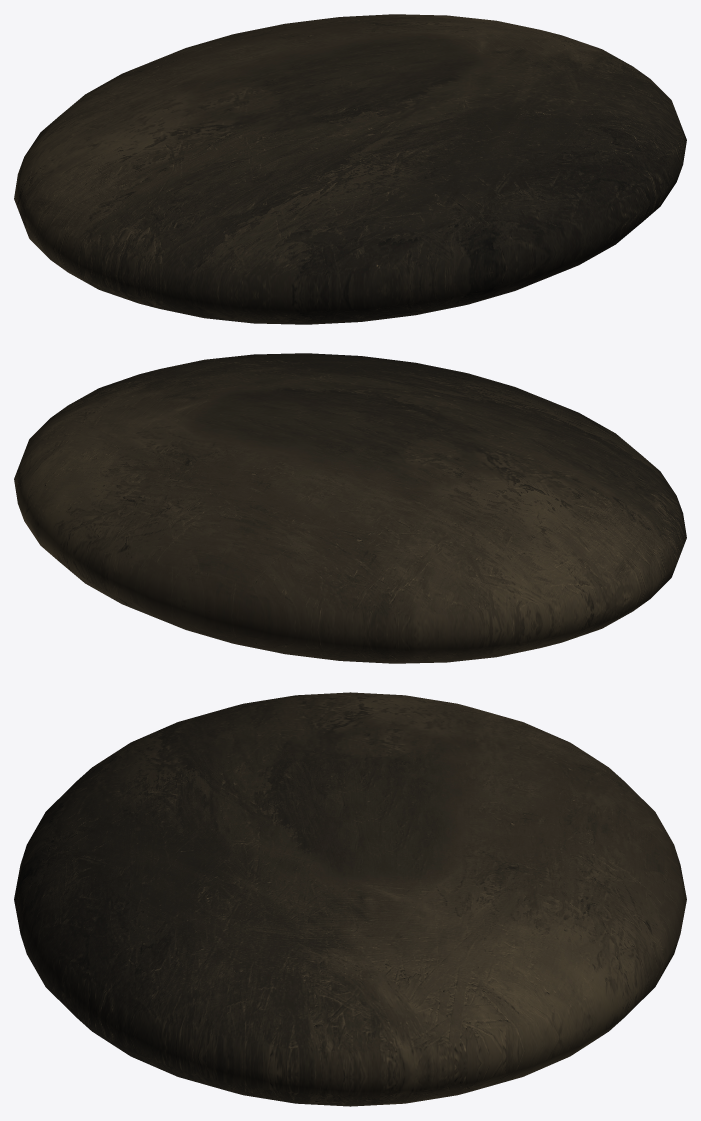
File: marron1.FBX
3 renders of one model, top to bottom at view 1: azimuth 30°, elevation 25°; view 2: azimuth 150°, elevation 25°; view 3: azimuth 270°, elevation 25°, orthographic. The views are drawn at different scales.
Parts seen in each view (by area): view 1: Sphère001; view 2: Sphère001; view 3: Sphère001.
Part boxes in pixels (bbox=[...]): Sphère001: bbox=[14, 14, 686, 324]; Sphère001: bbox=[14, 353, 686, 663]; Sphère001: bbox=[14, 692, 686, 1106].
Bounding box in the file's own units: 4.4 × 1.22 × 3.51.
Materials: 1 (1 with a texture image).
